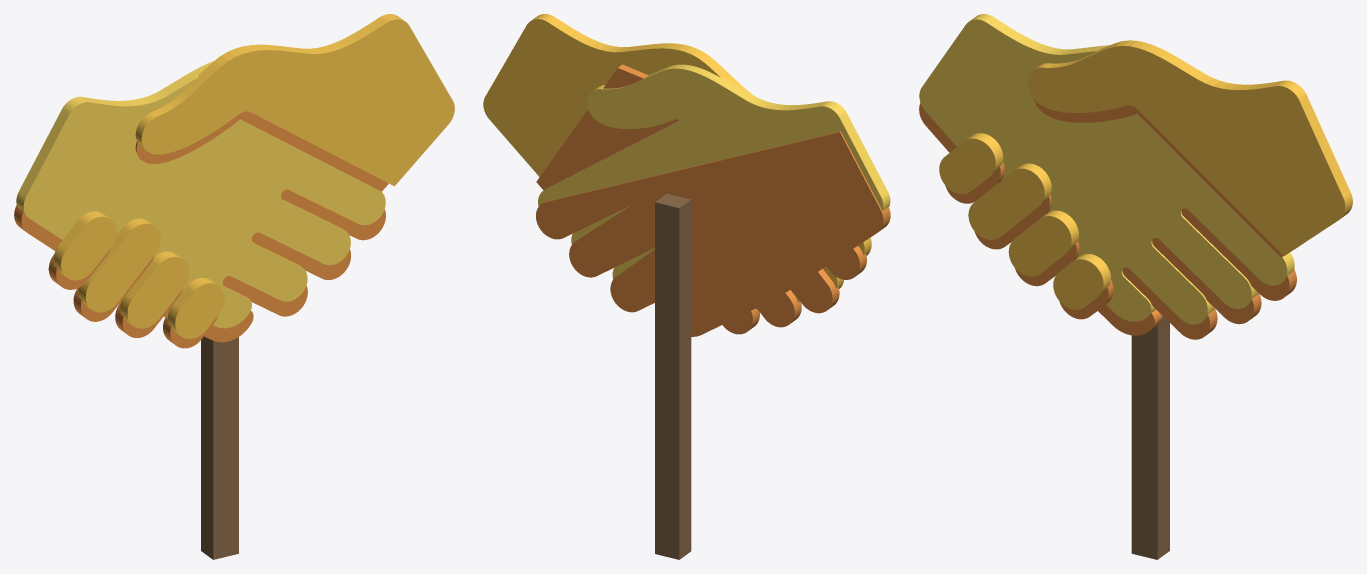
File: accord.glb
3 views of the same model, side by side, from view 1: azimuth 30°, elevation 25°; view 2: azimuth 150°, elevation 25°; view 3: azimuth 330°, elevation 25° (orthographic). The views are drawn at different scales.
Bounding box in the file's own units: 1 × 1.15 × 0.129.
